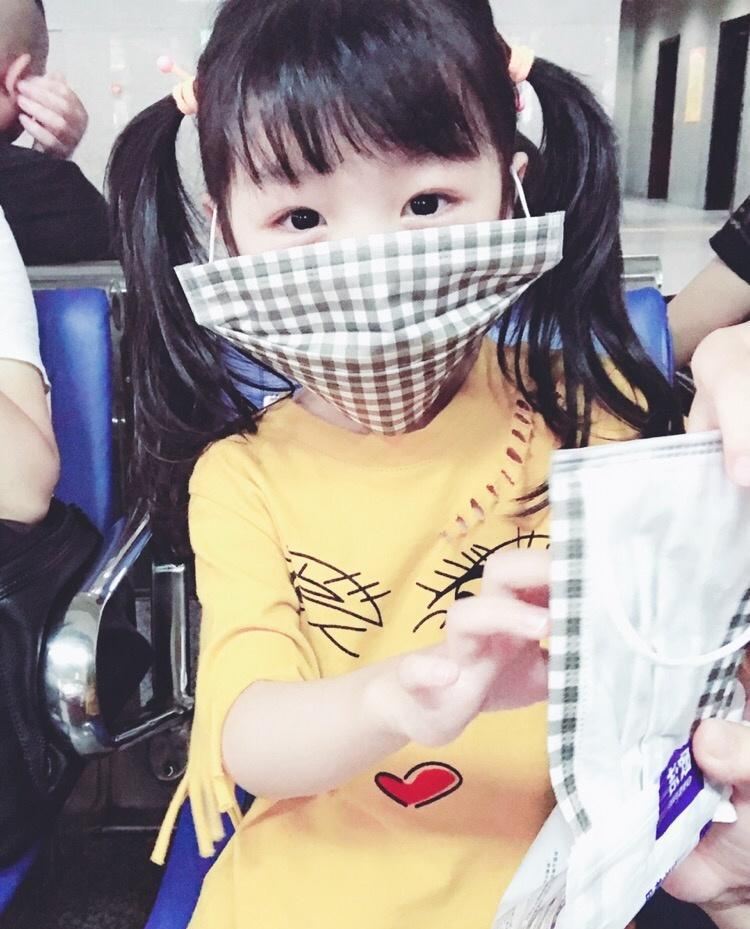OK: (211, 133, 521, 427)
